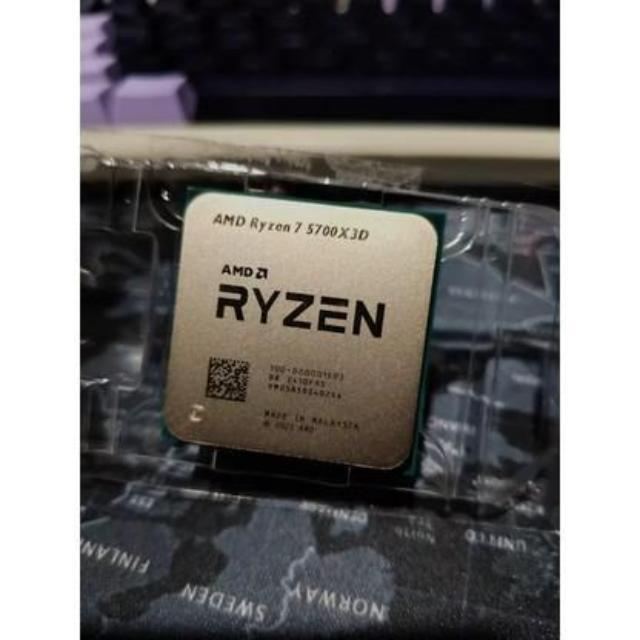CPU: (168, 188, 436, 474)
